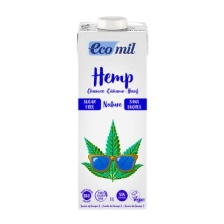carton: (72, 11, 150, 215)
